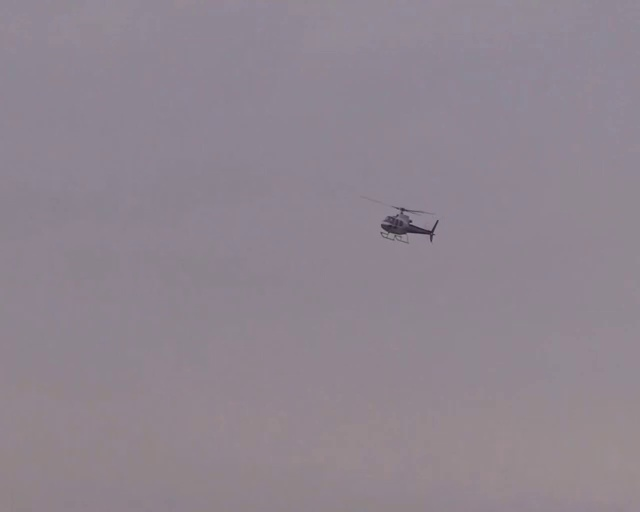HELICOPTER: (360, 195, 439, 244)
